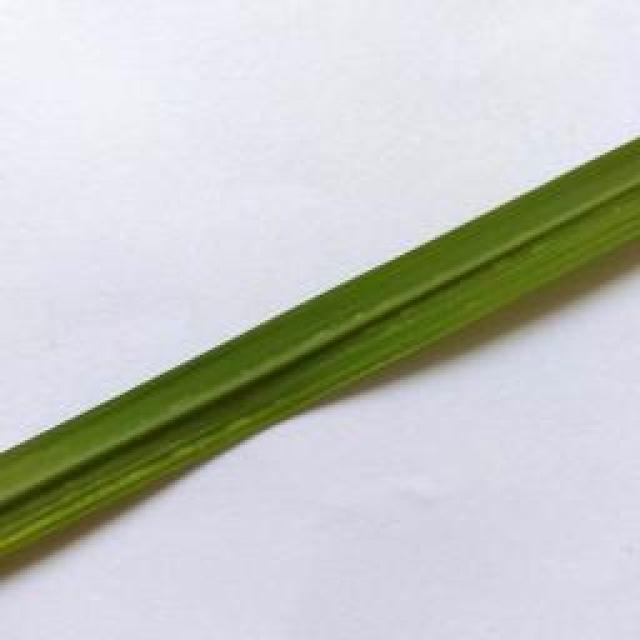Healthy-Plant: (271, 136, 640, 429), (0, 324, 266, 516)
